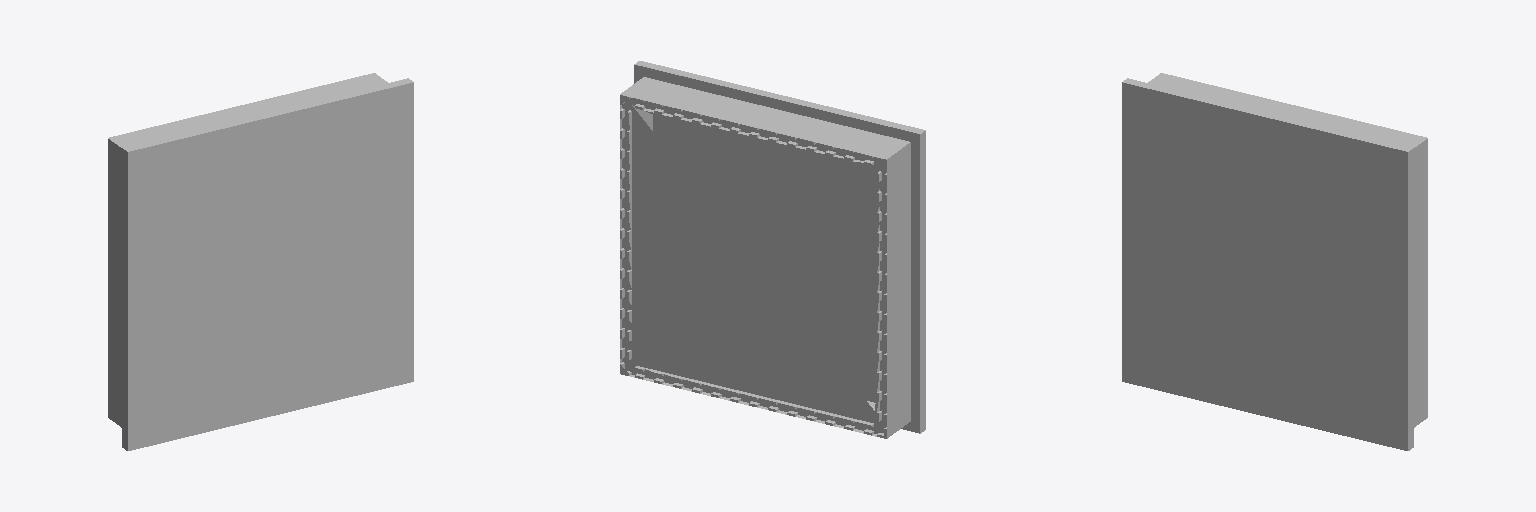
The model's file is MiniMapa.obj.
3 renders of one model, left to right at view 1: azimuth 30°, elevation 25°; view 2: azimuth 150°, elevation 25°; view 3: azimuth 330°, elevation 25°, orthographic.
Visible parts, largest first — view 1: Box003; view 2: Box003; view 3: Box003.
Boxes of the visible parts, <box> form: Box003: <box>108,73,413,450</box>; Box003: <box>620,61,925,438</box>; Box003: <box>1122,73,1427,450</box>.
Bounding box in the file's own units: 30 × 30 × 5.41.